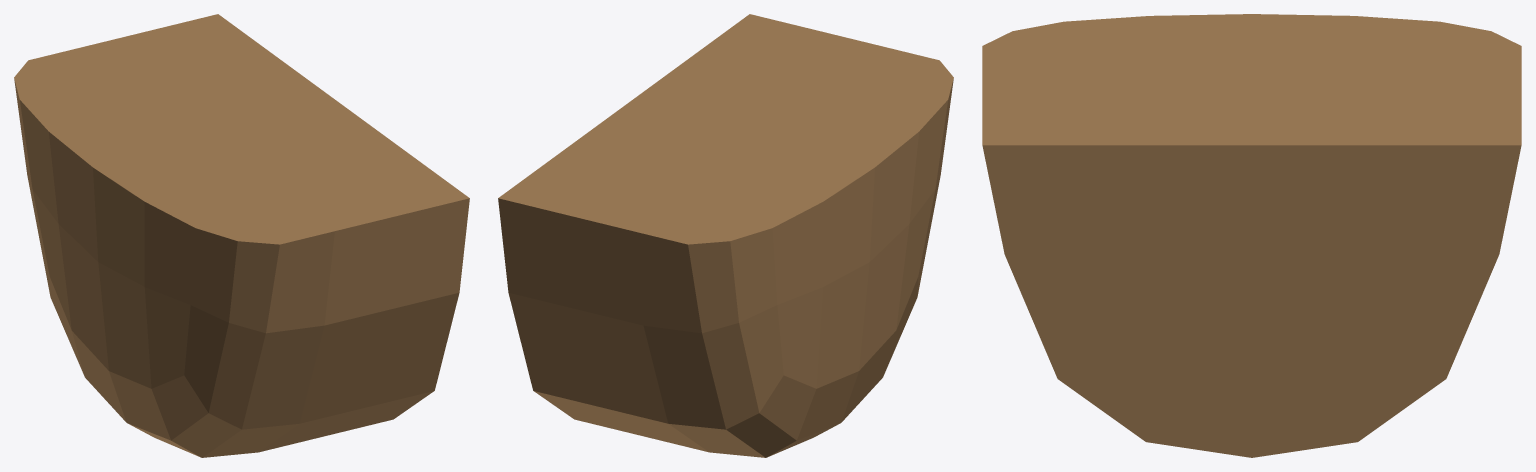
File: Platform_BottomLeft.glb
The picture shows the model from 3 angles, left to right: view 1: azimuth 30°, elevation 25°; view 2: azimuth 150°, elevation 25°; view 3: azimuth 270°, elevation 25°; orthographic projection. The views are drawn at different scales.
Visible parts, largest first — view 1: Platform_BottomLeft; view 2: Platform_BottomLeft; view 3: Platform_BottomLeft.
Part boxes in pixels (x1,y1,x2,y2): Platform_BottomLeft: [14, 14, 469, 457]; Platform_BottomLeft: [498, 14, 953, 457]; Platform_BottomLeft: [982, 14, 1521, 457].
Size of the model in its own units: 1.8 by 2 by 3.13.
